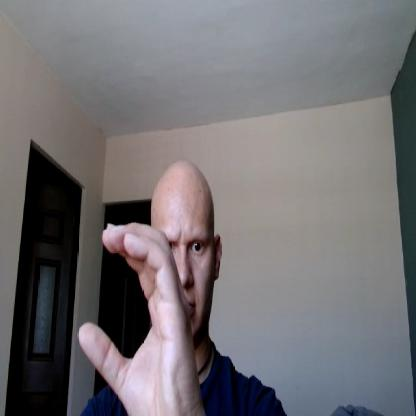C: (77, 221, 204, 415)
